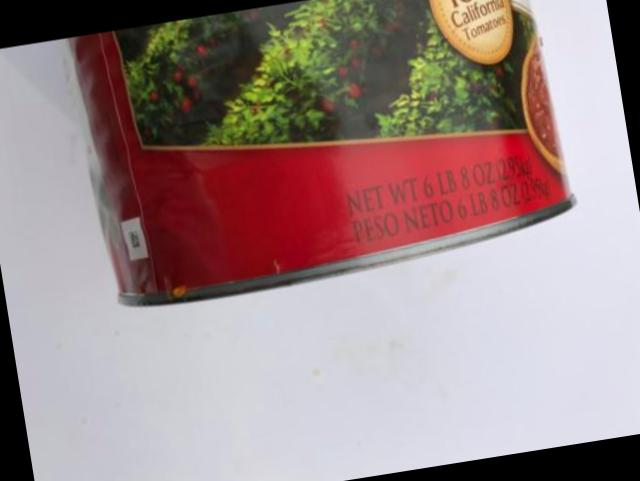metal: (71, 0, 575, 306)
